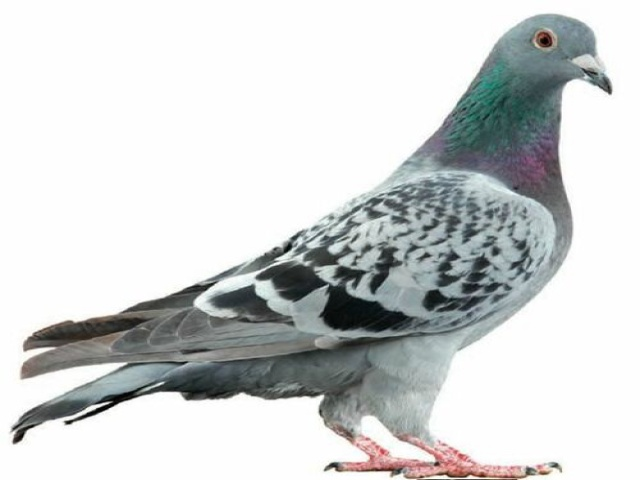Pigeon: (6, 13, 617, 476)
